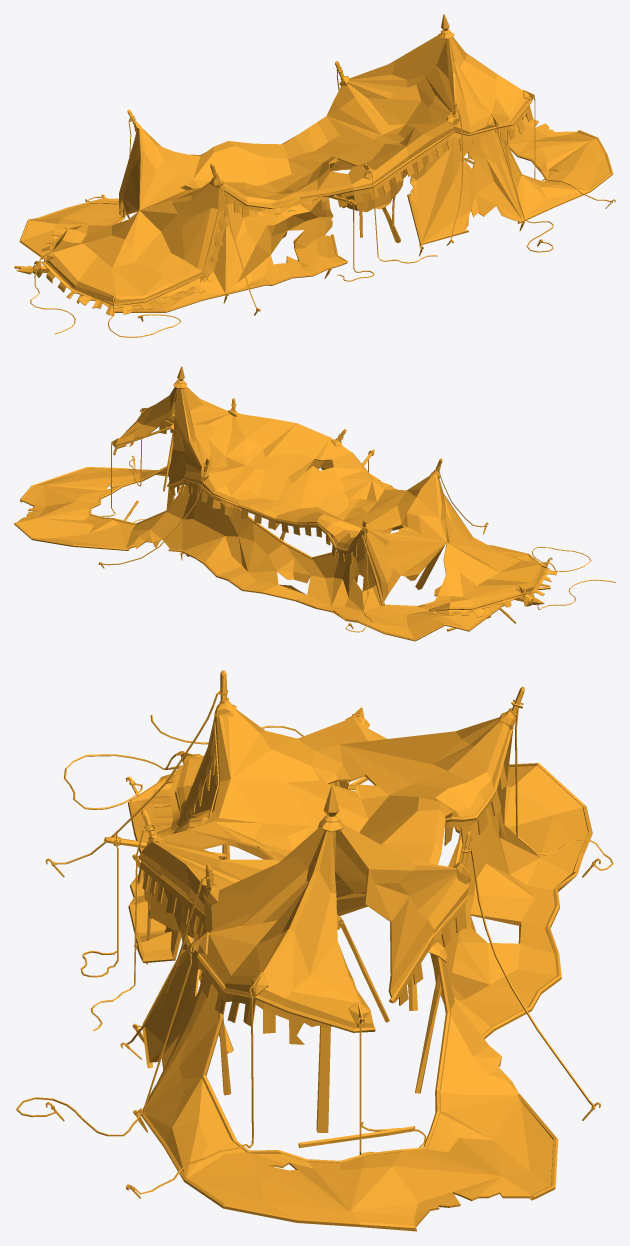
File: SM_Tent_Noble_Plain_Destroyed_Fantasy.fbx
3 views of the same model, one above another, from view 1: azimuth 30°, elevation 25°; view 2: azimuth 150°, elevation 25°; view 3: azimuth 270°, elevation 25° (orthographic). The views are drawn at different scales.
Parts seen in each view (by area): view 1: tent-noble-plain-destroyed-fantasy; view 2: tent-noble-plain-destroyed-fantasy; view 3: tent-noble-plain-destroyed-fantasy.
Boxes of the visible parts, <box> form: tent-noble-plain-destroyed-fantasy: <box>14,14,615,337</box>; tent-noble-plain-destroyed-fantasy: <box>14,366,615,641</box>; tent-noble-plain-destroyed-fantasy: <box>16,670,613,1231</box>.
Bounding box in the file's own units: 17.73 × 5.63 × 8.62.
